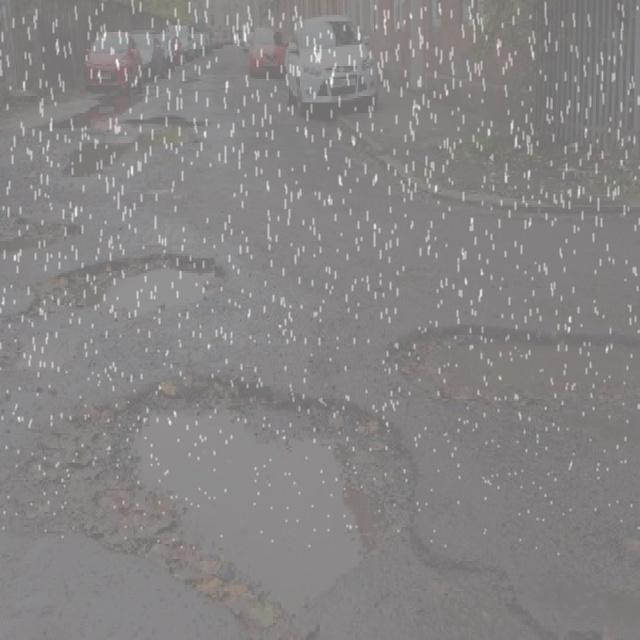Pothole: (51, 374, 424, 634), (0, 239, 229, 356), (378, 315, 640, 410), (35, 105, 214, 188)
